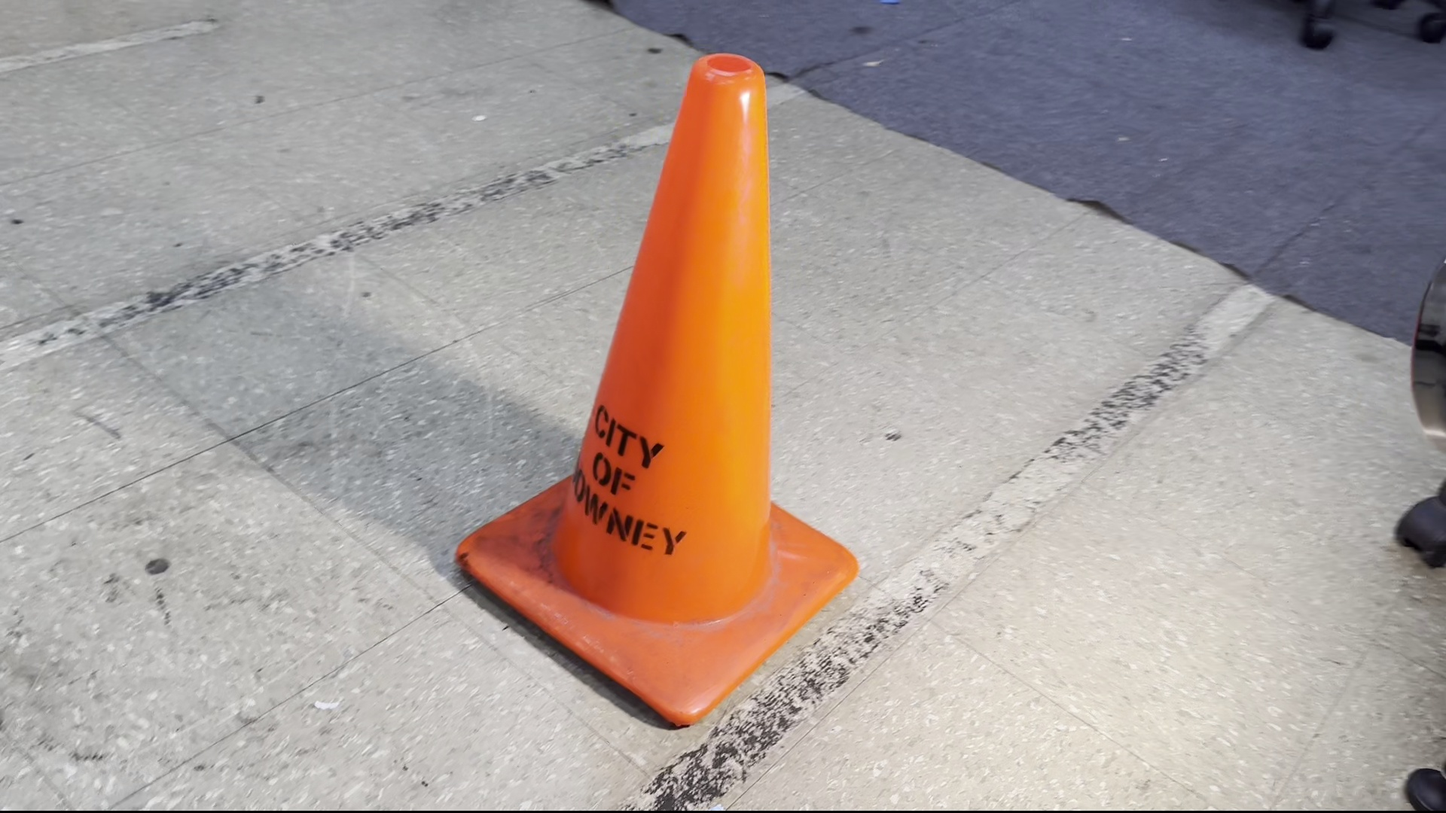traffic_cone: (454, 51, 860, 729)
